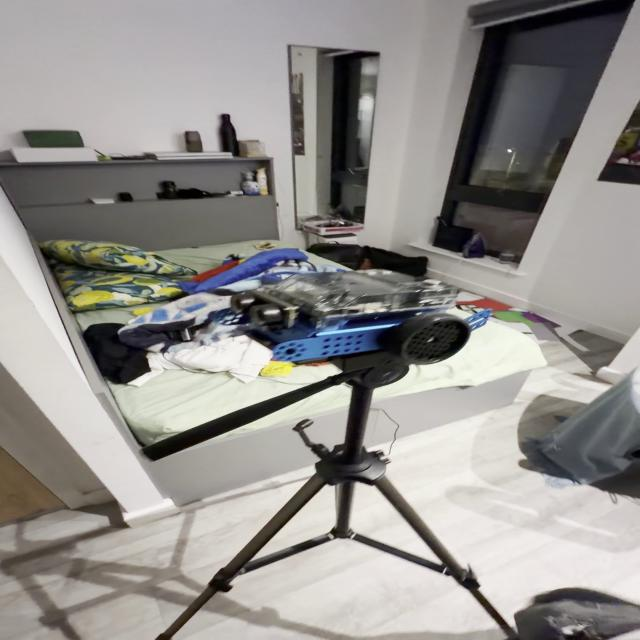mbot-detection: (225, 265, 504, 368)
